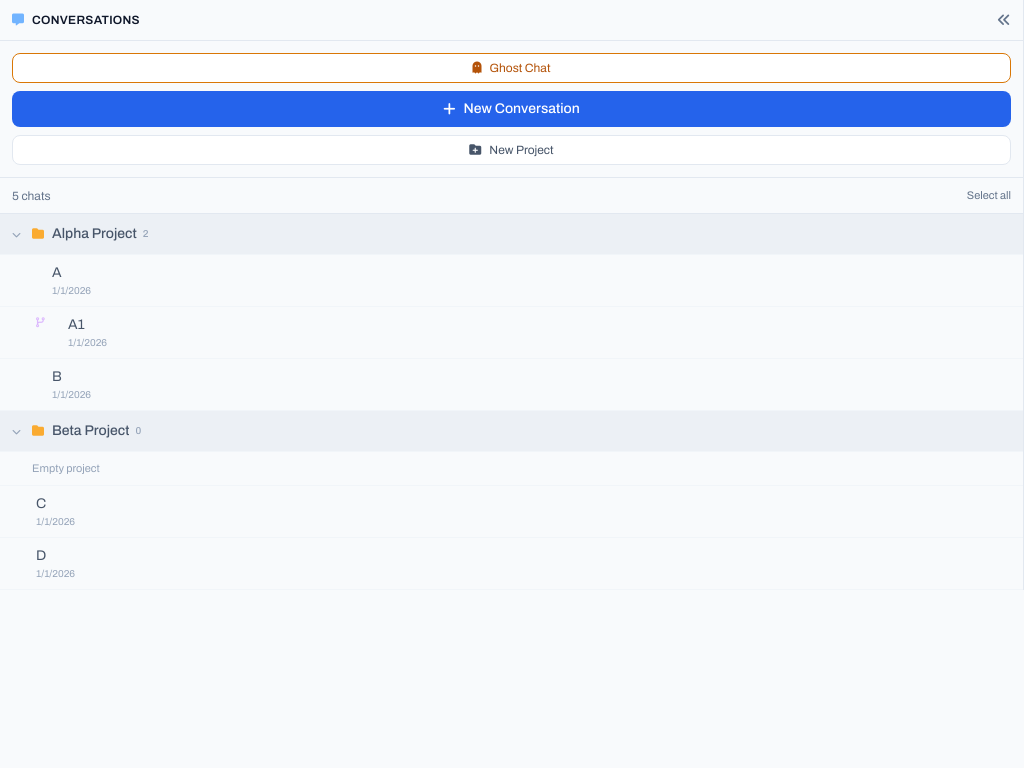
ChatSidebar project grouping › collapsing a project hides its conversations
Click the element with test id "project-header-p1" at x=512, y=234, box [0, 214, 1023, 255]
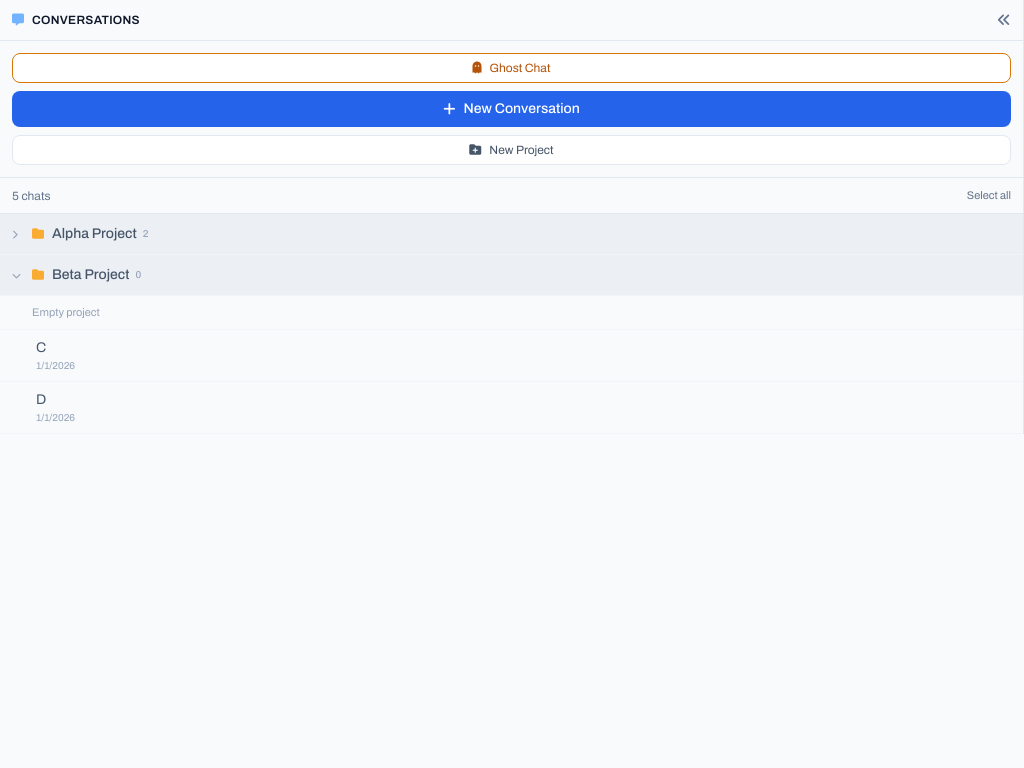
Expected: the text "C" is shown, [36, 338, 46, 358]
Now the text "A1" is gone
// Expanding brings them back.
Click the element with test id "project-header-p1" at x=512, y=234, box [0, 214, 1023, 255]
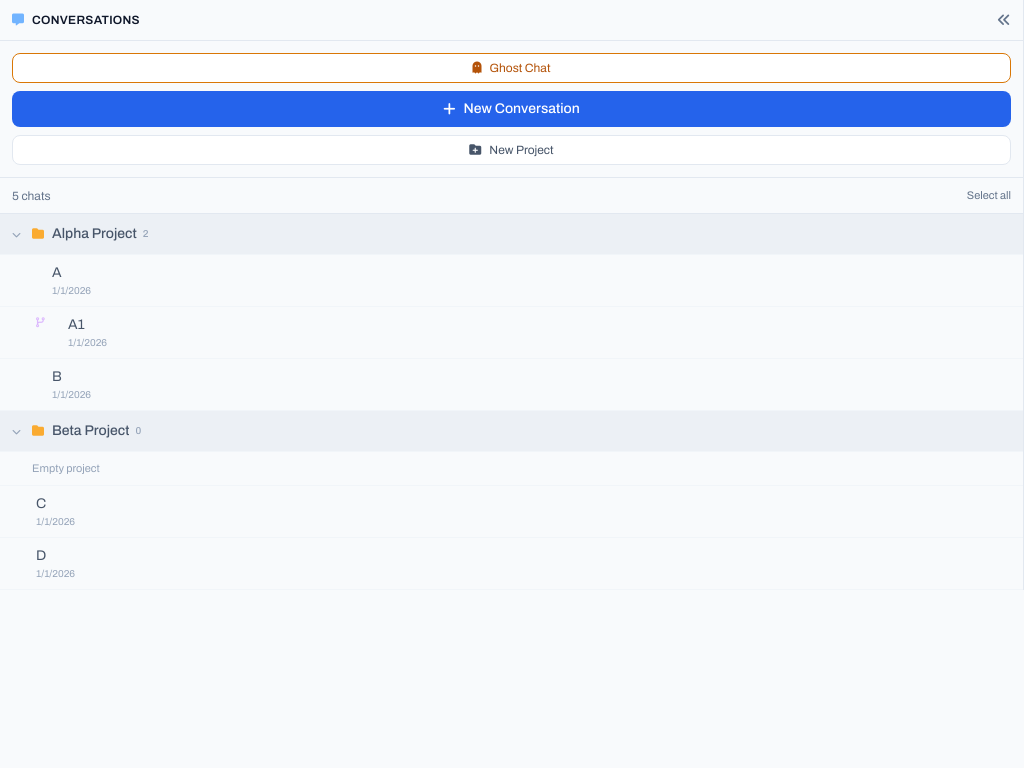
Now the text "A" is shown, box [52, 263, 62, 283]
